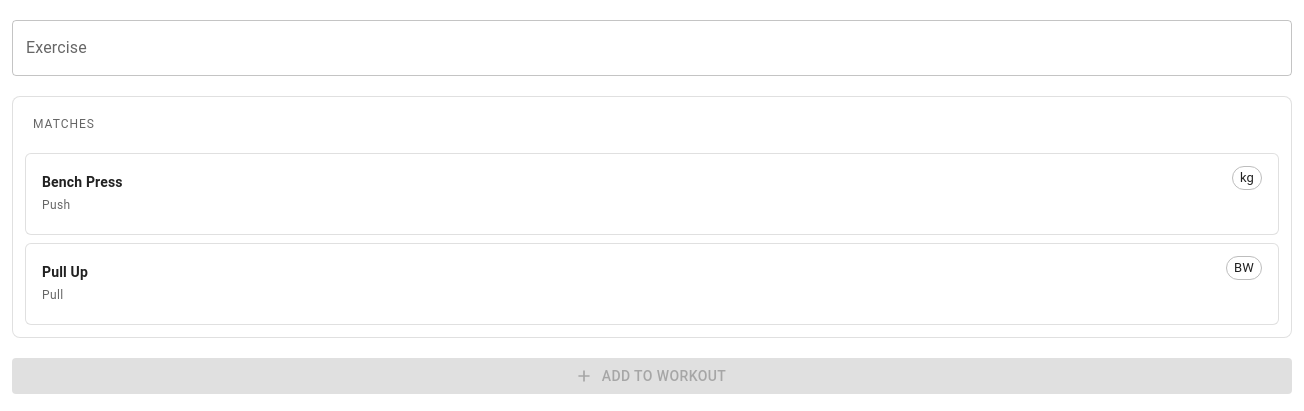
Test: ExercisePickerForm › loads remote search results after the debounce interval
The width and height of the screenshot is (1304, 411).
In the search field labelled "Exercise": (652, 48) left=12, top=20, right=1292, bottom=76, type "cable"
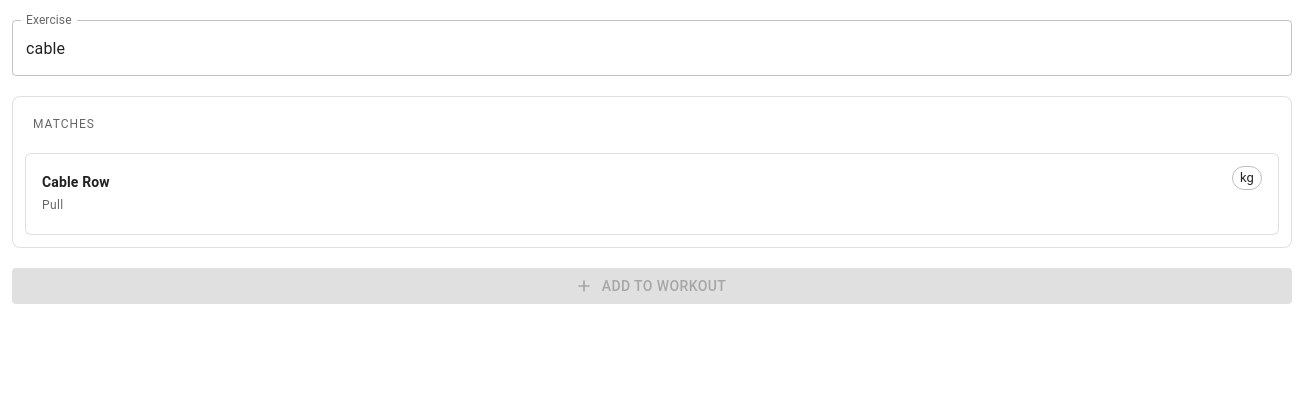
Now the text "Cable Row" is shown, box left=42, top=174, right=110, bottom=190
Now the button "Bench Press" is gone
